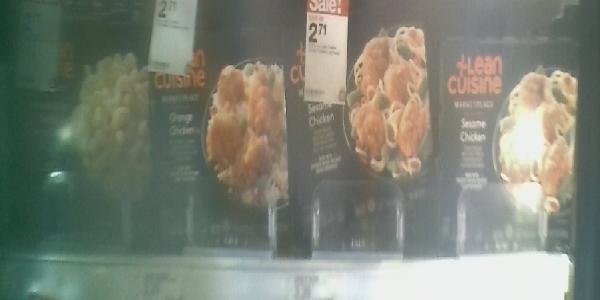pizza1: (2, 9, 147, 249), (290, 14, 433, 254), (146, 18, 288, 243), (439, 39, 584, 254)
